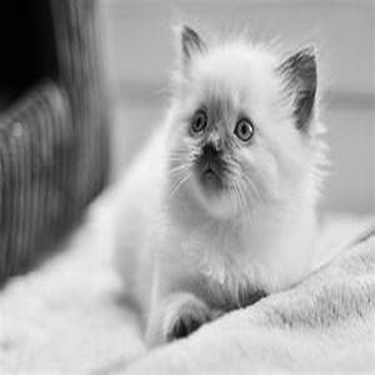cat: (109, 25, 330, 342)
